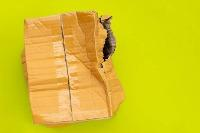damaged package: (93, 12, 114, 72)
undamaged: (16, 8, 129, 130)
